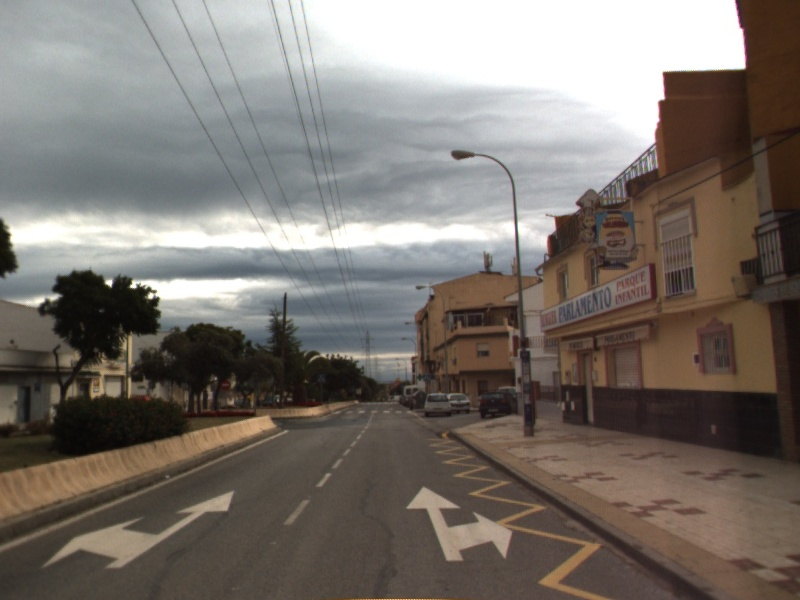STRAIGHT_LEFT: (39, 489, 236, 571)
STRAIGHT_RIGHT: (404, 484, 514, 563)
